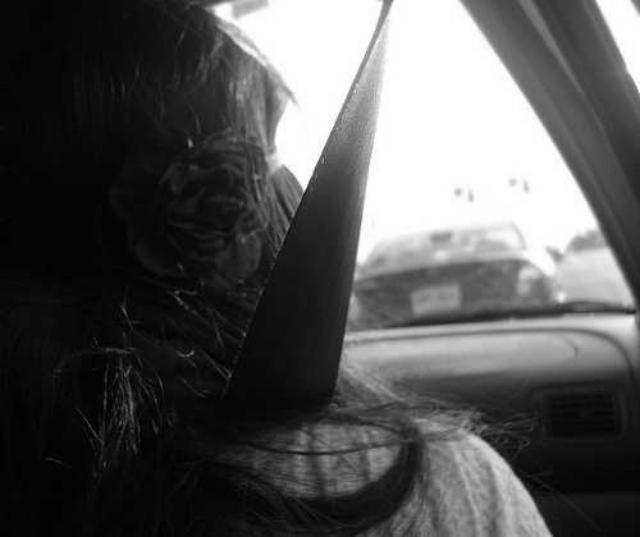Seatbelt: (218, 1, 398, 439)
